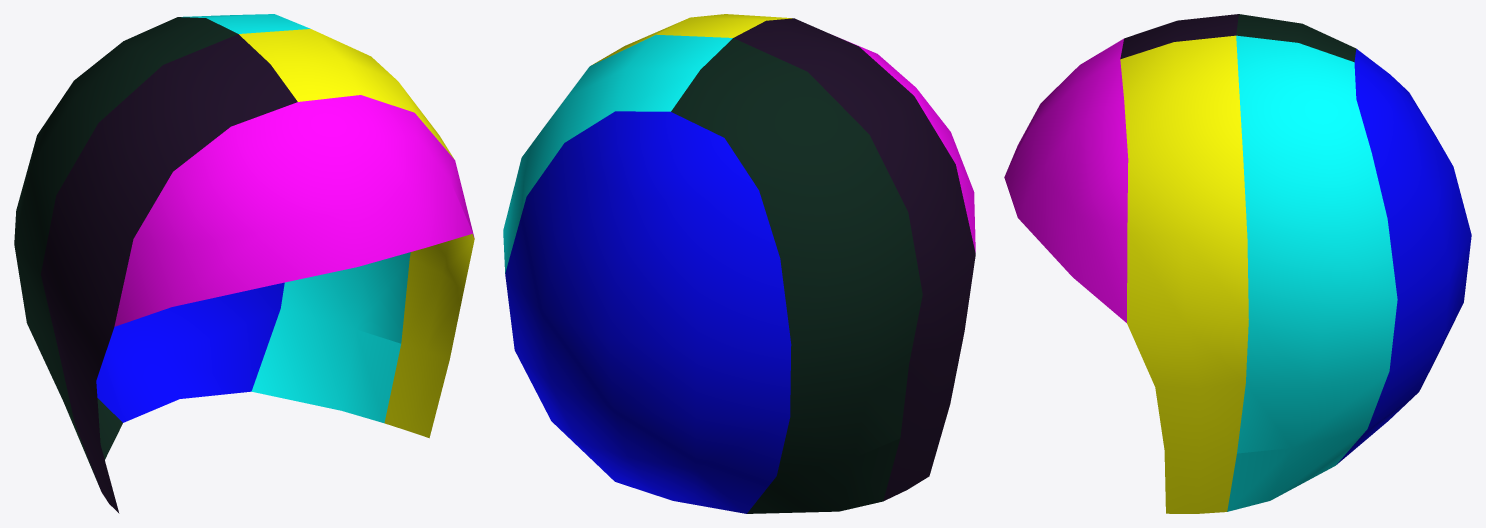
File: scalpcurvelatticeguide.obj
The picture shows the model from 3 angles, left to right: view 1: azimuth 30°, elevation 25°; view 2: azimuth 150°, elevation 25°; view 3: azimuth 270°, elevation 25°; orthographic projection. The views are drawn at different scales.
Visible parts, largest first — view 1: polySurface15; view 2: polySurface15; view 3: polySurface15.
Part boxes in pixels (x1,y1,x2,y2): polySurface15: [14, 14, 474, 513]; polySurface15: [503, 14, 975, 513]; polySurface15: [1004, 14, 1471, 513].
Size of the model in its own units: 19.79 by 20.8 by 21.53.
